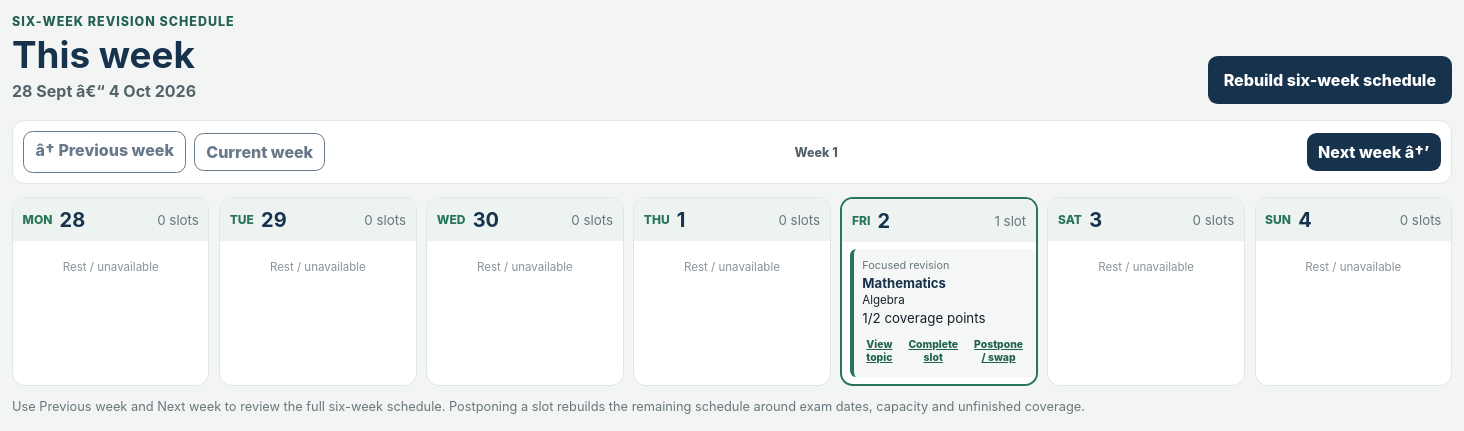
Phase 5 student experience › navigates from the current week to future scheduled weeks
The image size is (1464, 431).
Check: the button "Postpone / swap" is shown, box [970,334,1027,368]
What coordinates should you click on to do the following:
click the button "Next week â†’"
I would click on:
 (1374, 152)
Its box is [1307,133,1441,171].
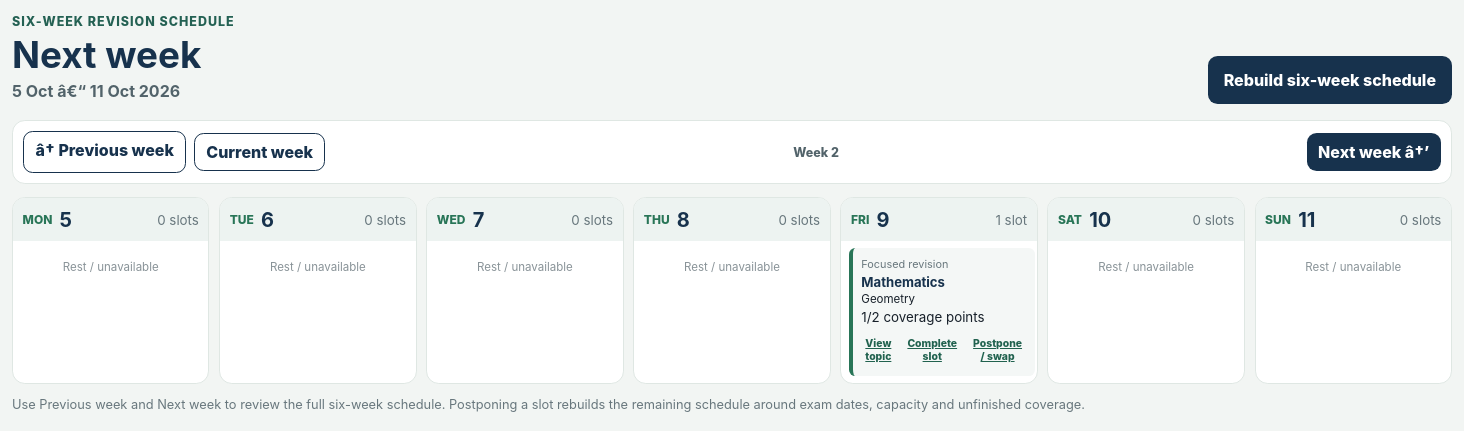
Check: the heading "Next week" is shown, box [12,32,201,77]
Check: the text "Geometry" is shown, box [861,292,915,306]
Check: the button "â† Previous week" is enabled, box [23,131,186,173]
